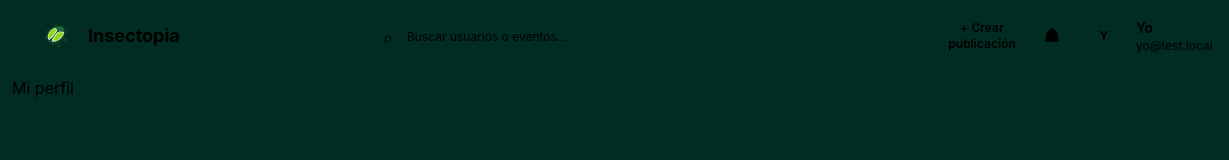
Scenario: búsqueda global de la navbar › muestra vacío o error sin romper la vista cuando falla alguna API
The width and height of the screenshot is (1229, 160).
In the search field named "Buscar usuarios o títulos de eventos": (652, 36) [367,16,937,56], type "nada"
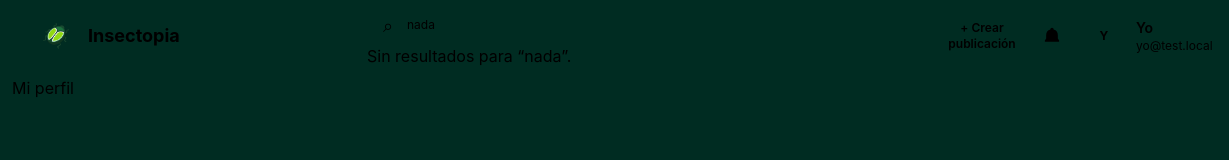
expect the text "Mi perfil" is shown: met, box [12,78,74,98]
expect the text "Sin resultados para “nada”." is shown: met, box [367,46,571,66]
